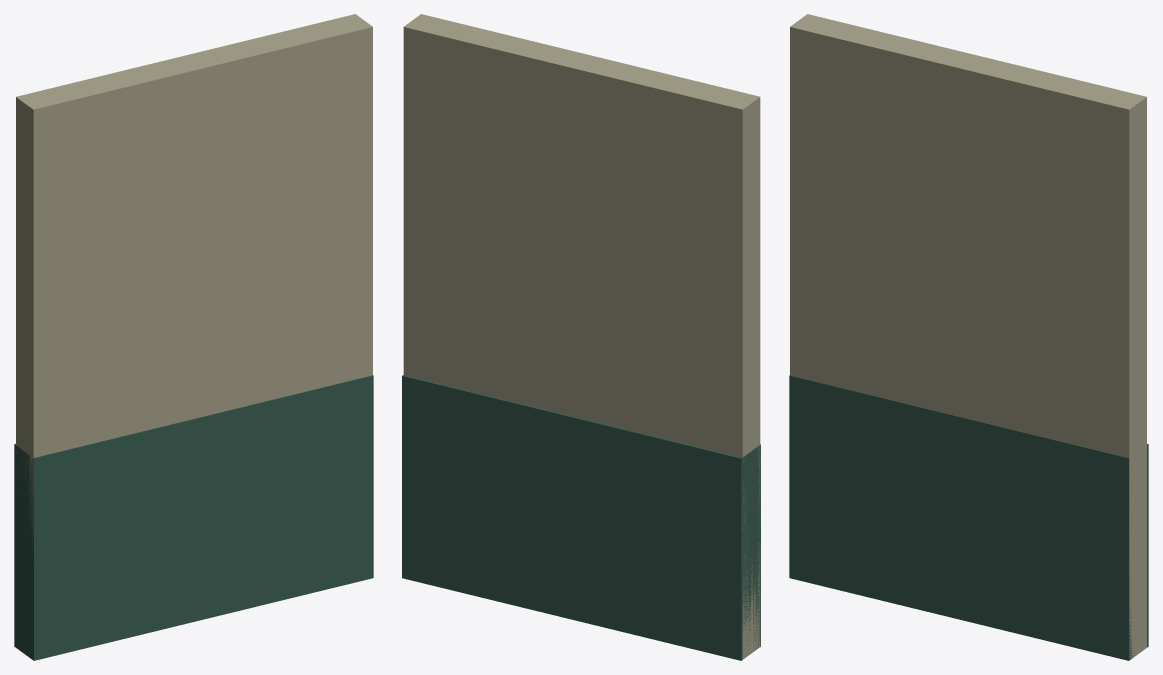
File: wall_straight.glb
3 views of the same model, side by side, from view 1: azimuth 30°, elevation 25°; view 2: azimuth 150°, elevation 25°; view 3: azimuth 330°, elevation 25° (orthographic).
Parts seen in each view (by area): view 1: wall_straight; view 2: wall_straight; view 3: wall_straight.
Part boxes in pixels (x1=…): wall_straight: x1=14, y1=14, x2=373, y2=660; wall_straight: x1=402, y1=14, x2=760, y2=660; wall_straight: x1=789, y1=14, x2=1148, y2=660.
Size of the model in its own units: 2 by 3.1 by 0.2.
